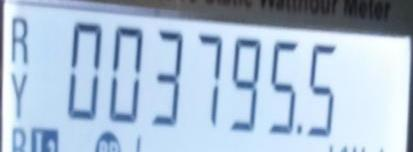0: (296, 124, 304, 136)
1: (66, 21, 103, 121), (107, 25, 141, 125)
4: (151, 27, 185, 128)
6: (305, 43, 339, 138), (269, 39, 299, 134)
8: (196, 32, 224, 128)
:: (229, 38, 262, 132)
